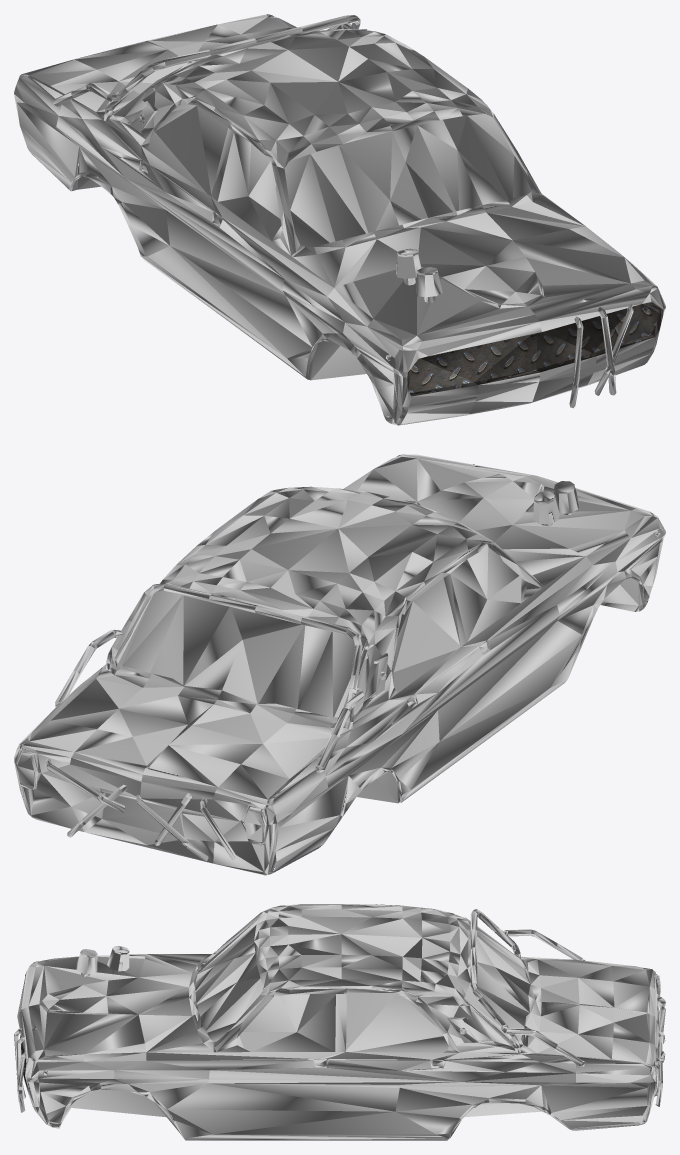
The model's file is volga2.FBX.
3 renders of one model, top to bottom at view 1: azimuth 30°, elevation 25°; view 2: azimuth 150°, elevation 25°; view 3: azimuth 270°, elevation 25°, orthographic. The views are drawn at different scales.
Visible parts, largest first — view 1: DrawCall_1049; view 2: DrawCall_1049; view 3: DrawCall_1049.
Boxes of the visible parts, x1,y1,x2,y2 form: DrawCall_1049: [14, 14, 665, 425]; DrawCall_1049: [14, 454, 665, 875]; DrawCall_1049: [14, 904, 665, 1140].
Bounding box in the file's own units: 4671 × 3222 × 11857.
